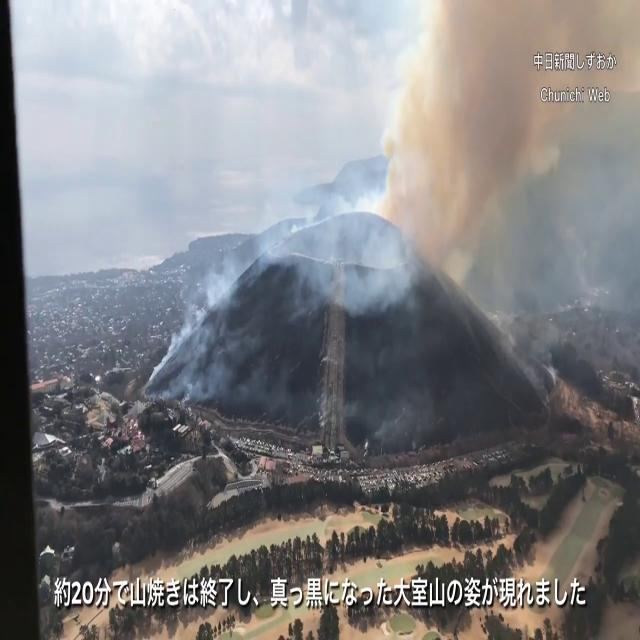Smoke: (361, 0, 639, 319), (142, 194, 370, 422)
